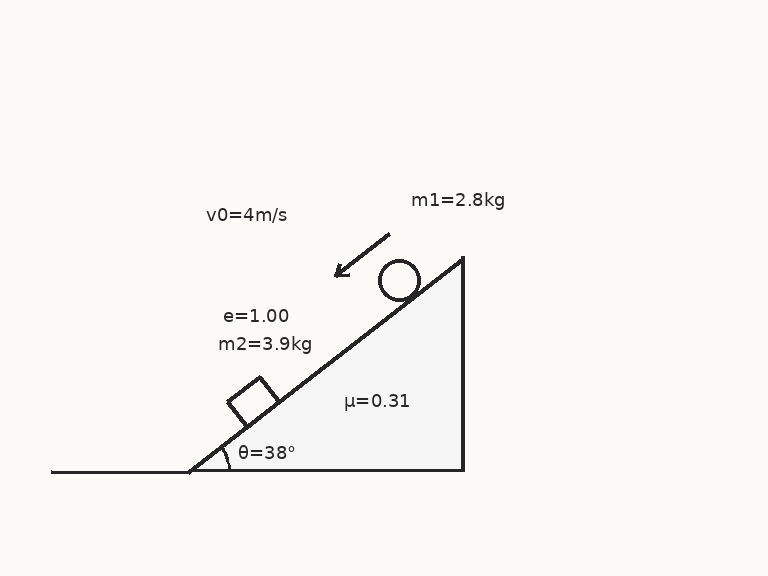ball: (376, 257, 422, 303)
block: (225, 374, 281, 428)
ramp: (187, 255, 464, 473)
